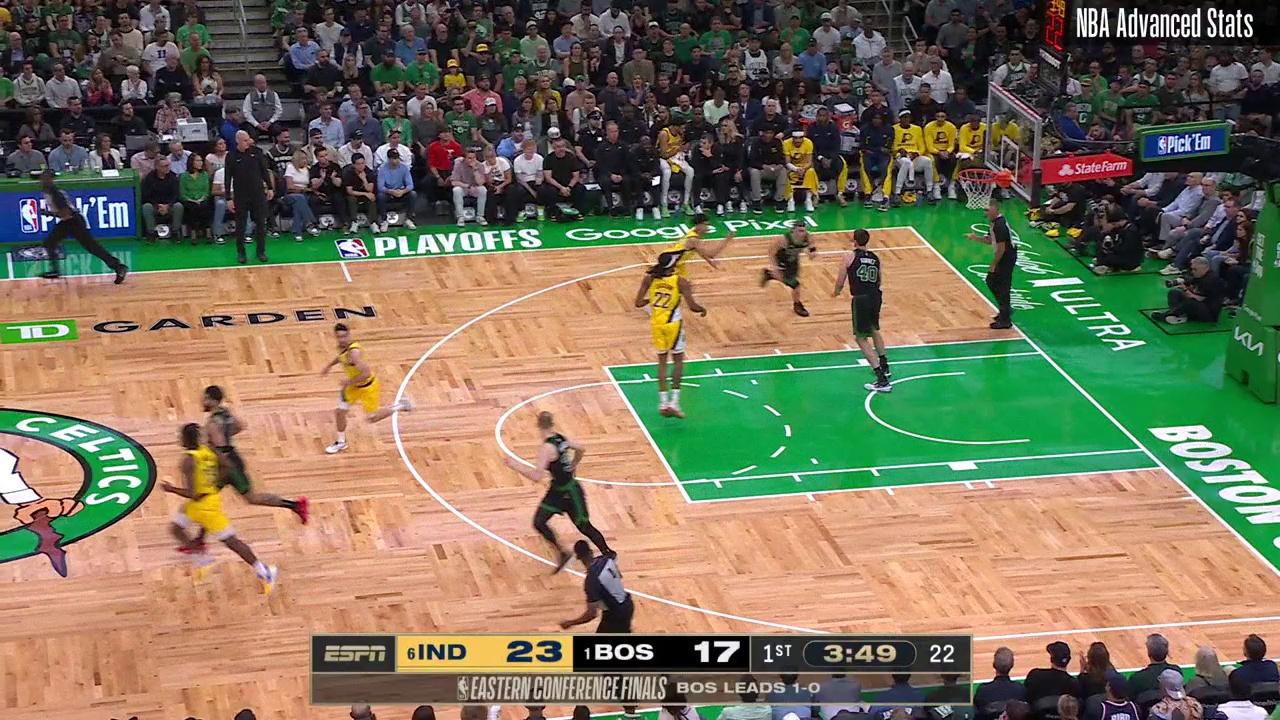3_sx: (924, 241, 933, 249)
b_sx: (905, 222, 915, 231)
free_adx: (682, 495, 696, 509)
free_asx: (600, 362, 613, 374)
free_bdx: (1158, 460, 1171, 472)
free_bsx: (1020, 332, 1032, 343)
mid_sx: (340, 274, 359, 288)
referee: (35, 173, 129, 286), (562, 543, 646, 636), (967, 201, 1021, 335)
team: (198, 385, 309, 525), (533, 413, 621, 560), (841, 229, 892, 391), (766, 217, 817, 318)
team1: (161, 422, 273, 595), (314, 316, 414, 457), (634, 254, 704, 424), (669, 207, 725, 305)
timer: (816, 640, 910, 667)
